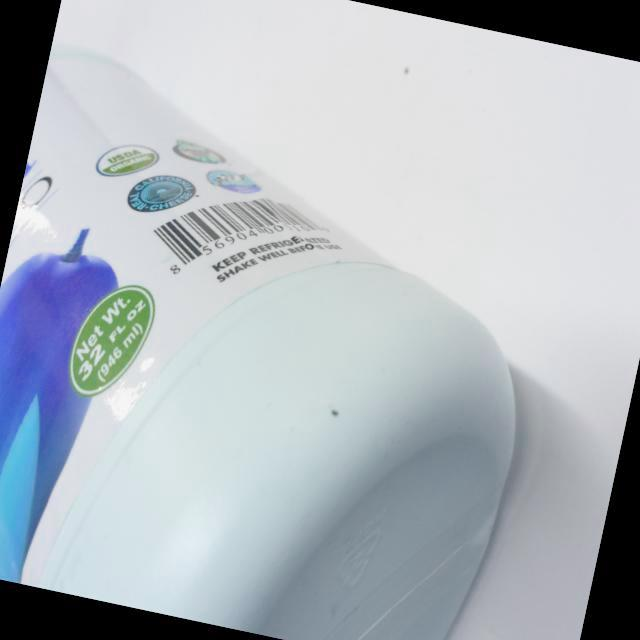plastic: (0, 20, 592, 640)
